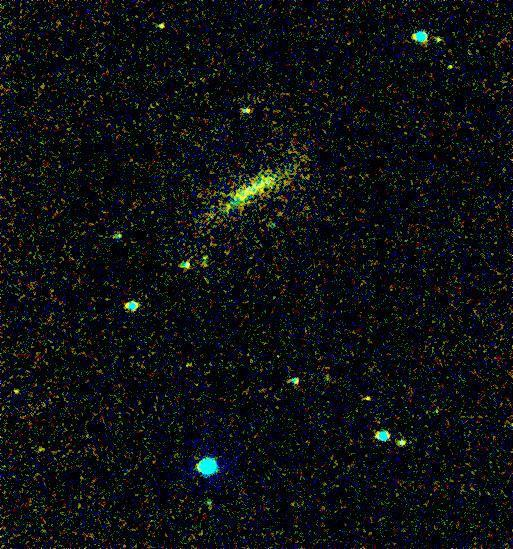star: (145, 10, 175, 40)
